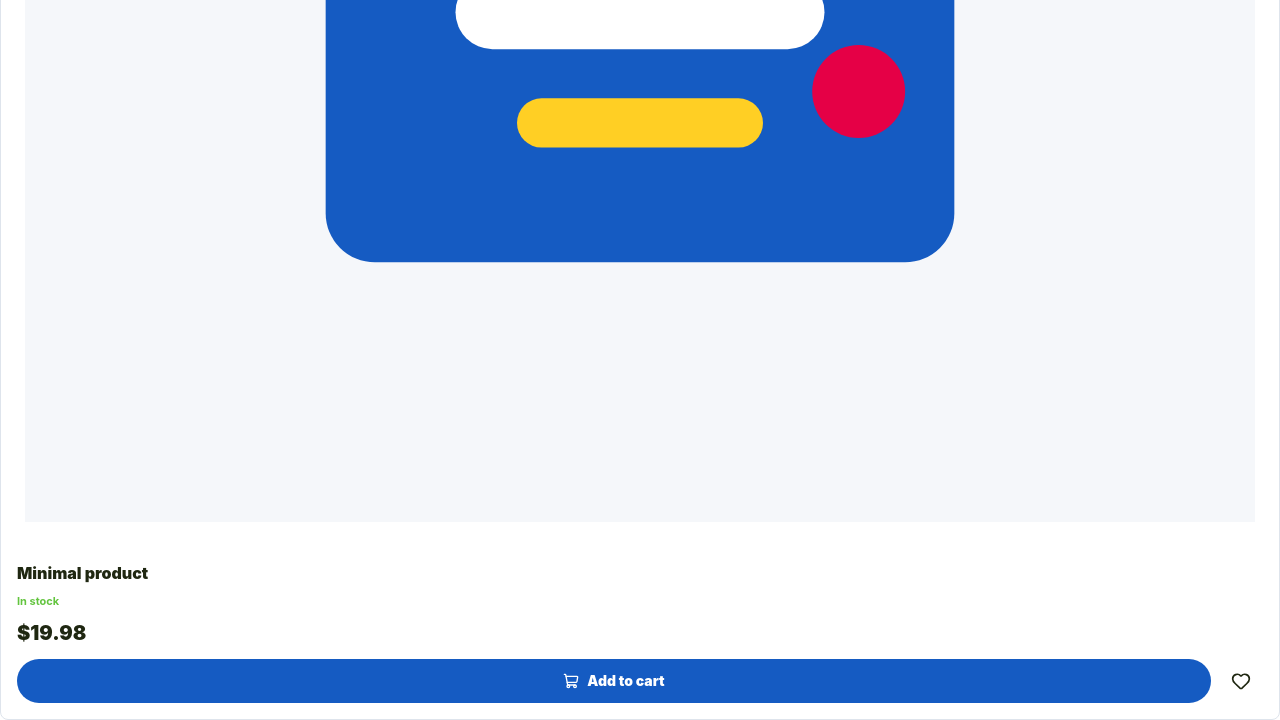
Scenario: product card › keeps metadata minimal and adds several units in one action
(page scrolled)
Expected: the text "In stock" is shown, [17,594,59,608]
Step 1. Click the button "Add to cart" → (614, 681), box [17,659,1211,703]
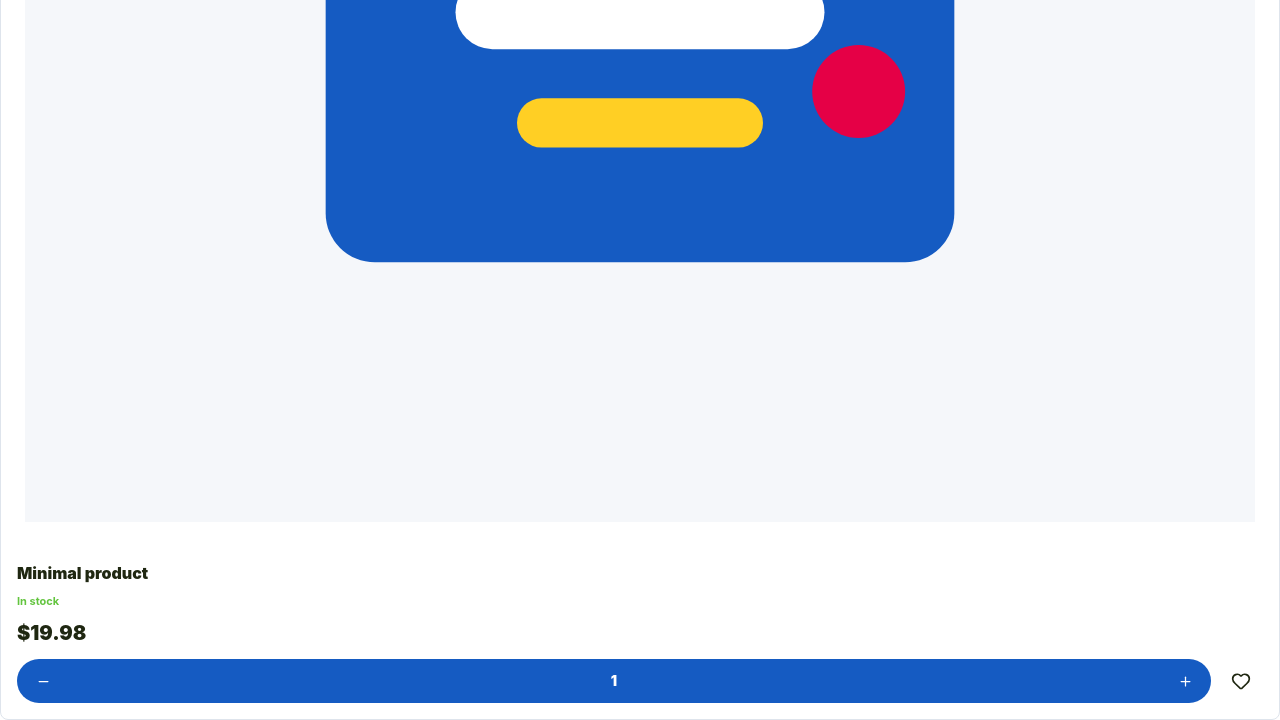
Expected: the button "Add to cart" is gone
Step 2. Click the button named "Increase quantity in cart" → (1185, 681), box [1163,659,1207,703]
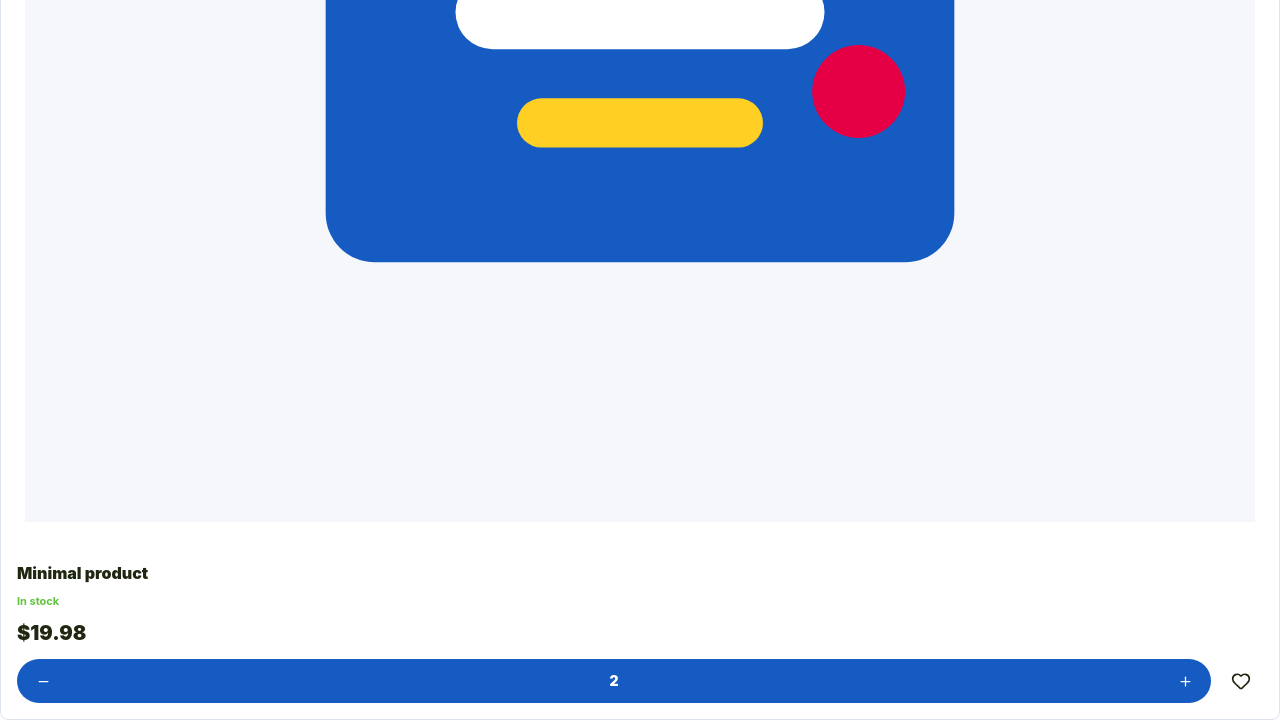
Step 3. Click the button named "Increase quantity in cart" → (1185, 681), box [1163,659,1207,703]
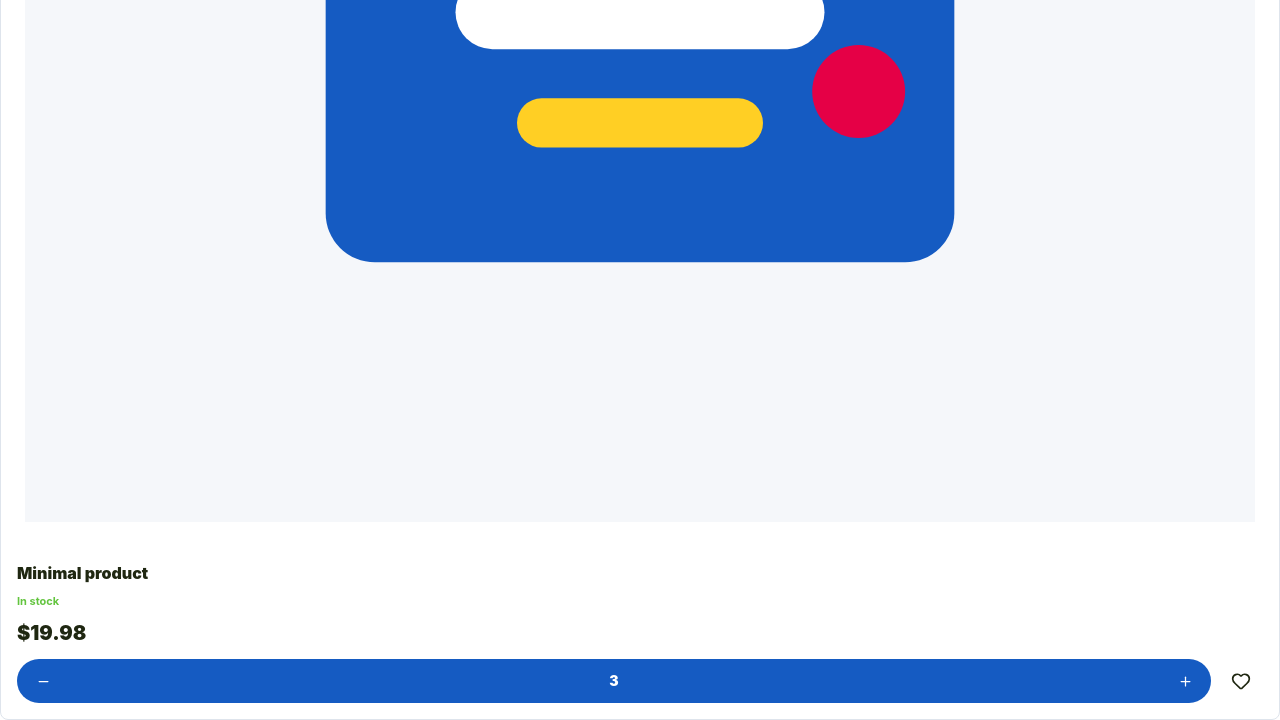
Expected: the text "3" is shown, [609,672,619,689]
